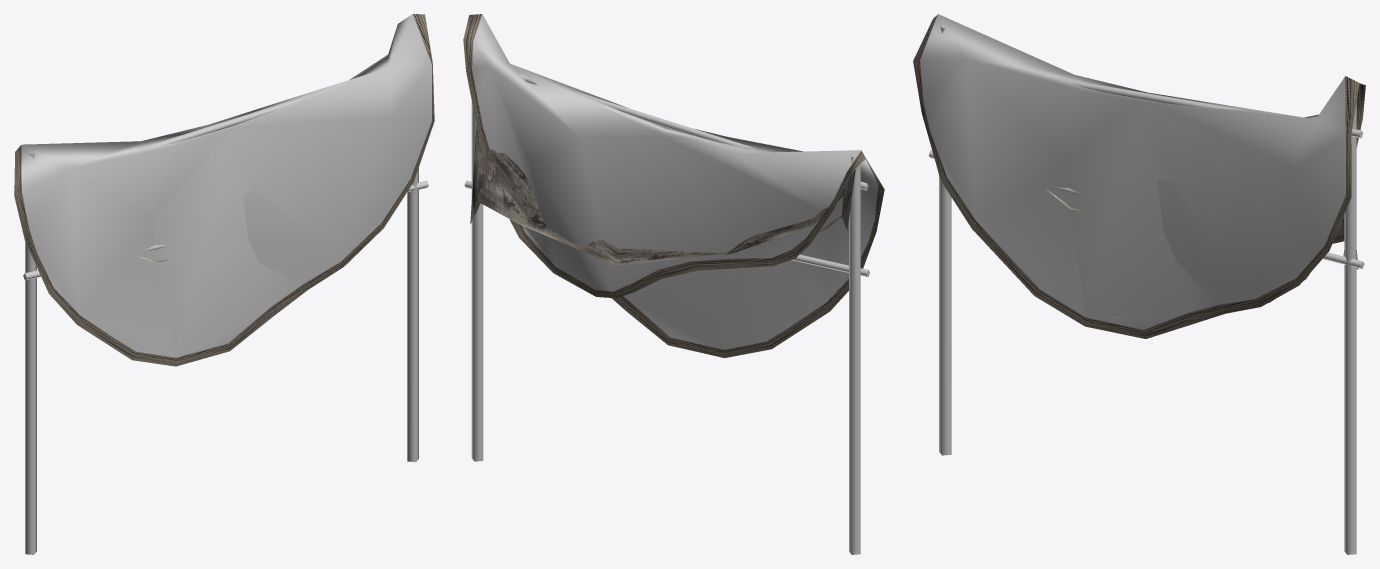
The model's file is Fishnet3_LOD2.fbx.
3 renders of one model, left to right at view 1: azimuth 30°, elevation 25°; view 2: azimuth 150°, elevation 25°; view 3: azimuth 330°, elevation 25°, orthographic. The views are drawn at different scales.
Parts seen in each view (by area): view 1: polySurface1194; view 2: polySurface1194; view 3: polySurface1194.
Part boxes in pixels (x1=…): polySurface1194: x1=14, y1=14, x2=434, y2=554; polySurface1194: x1=463, y1=14, x2=884, y2=554; polySurface1194: x1=913, y1=14, x2=1365, y2=554.
Bounding box in the file's own units: 7.74 × 7.95 × 1.16.
